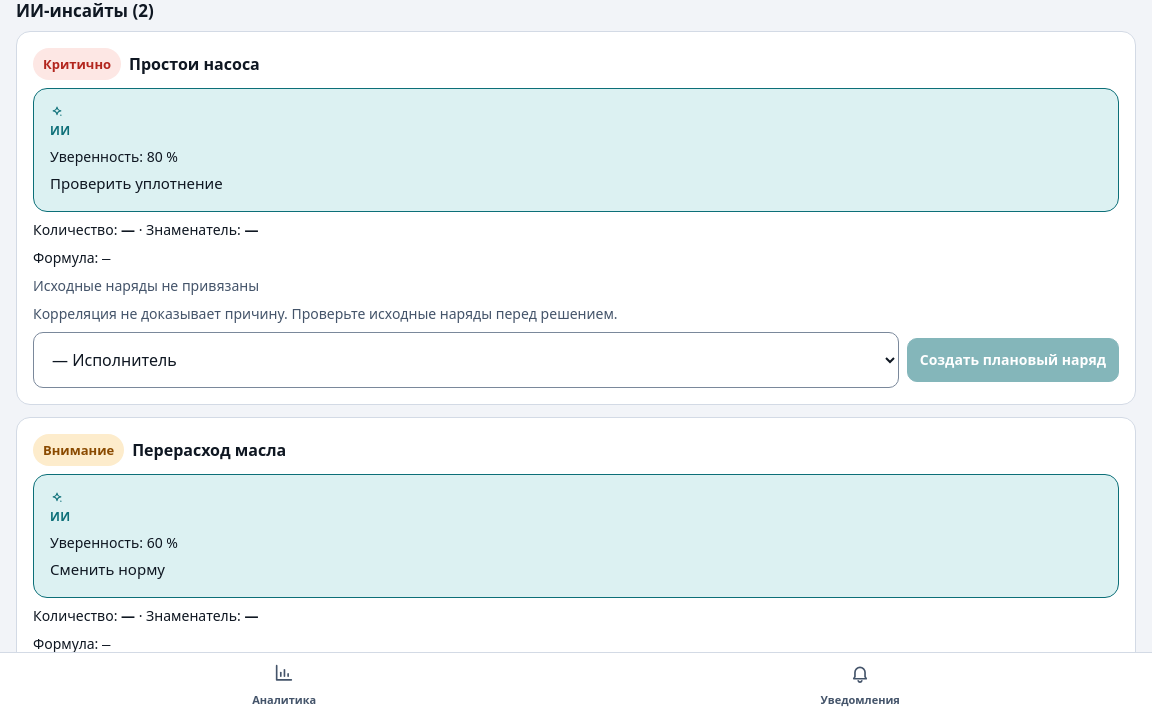
Test case: ManagerDashboard insights › plans order from insight with chosen worker
This screenshot has width=1152, height=720.
(page scrolled)
Expected: the text "Простои насоса" is shown, [129,52,260,76]
Step 1. Select "Иван" in the dropdown named "Исполнитель" → (466, 360), box [33,332,899,388]
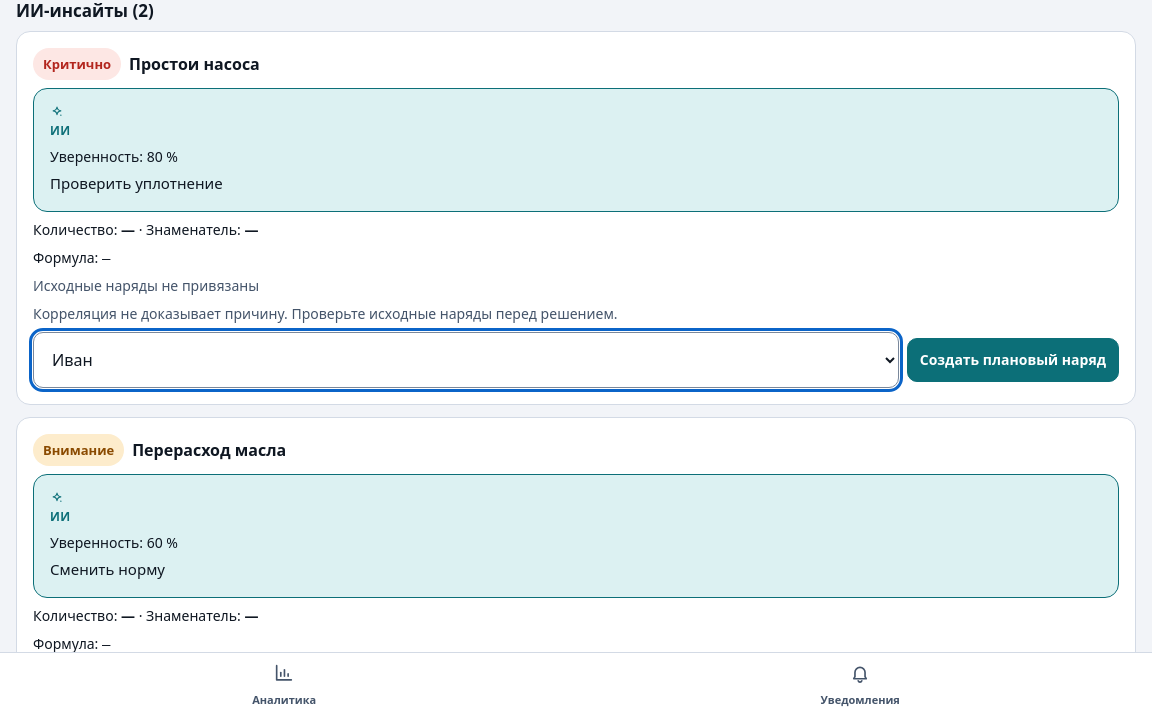
Step 2. Click the button "Создать плановый наряд" → (1013, 360), box [907,338,1119,382]
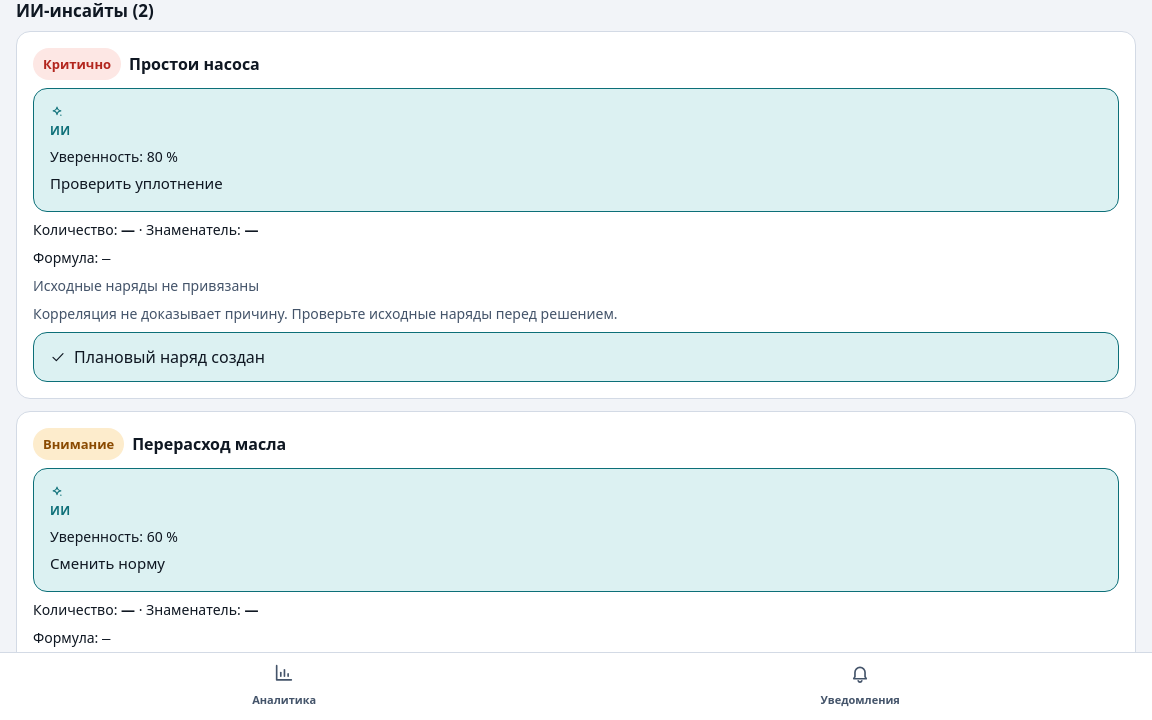
Expected: the text "Плановый наряд создан" is shown, [33,332,1119,382]
